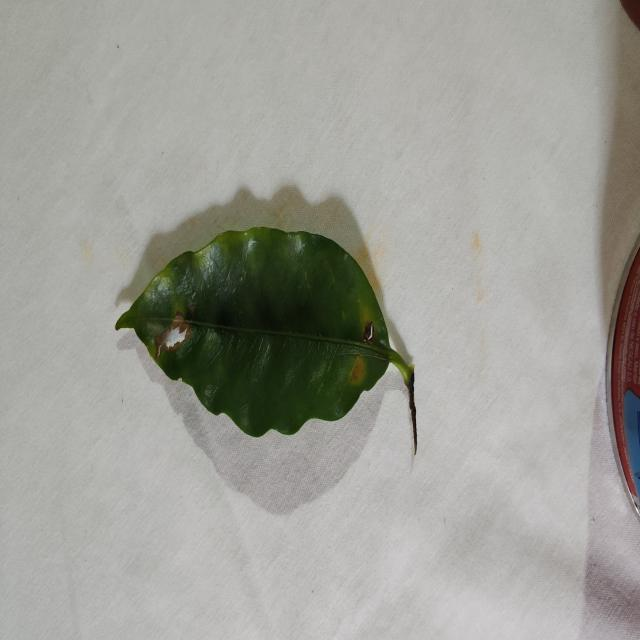Enfermedad-Roya: (114, 222, 416, 439)
